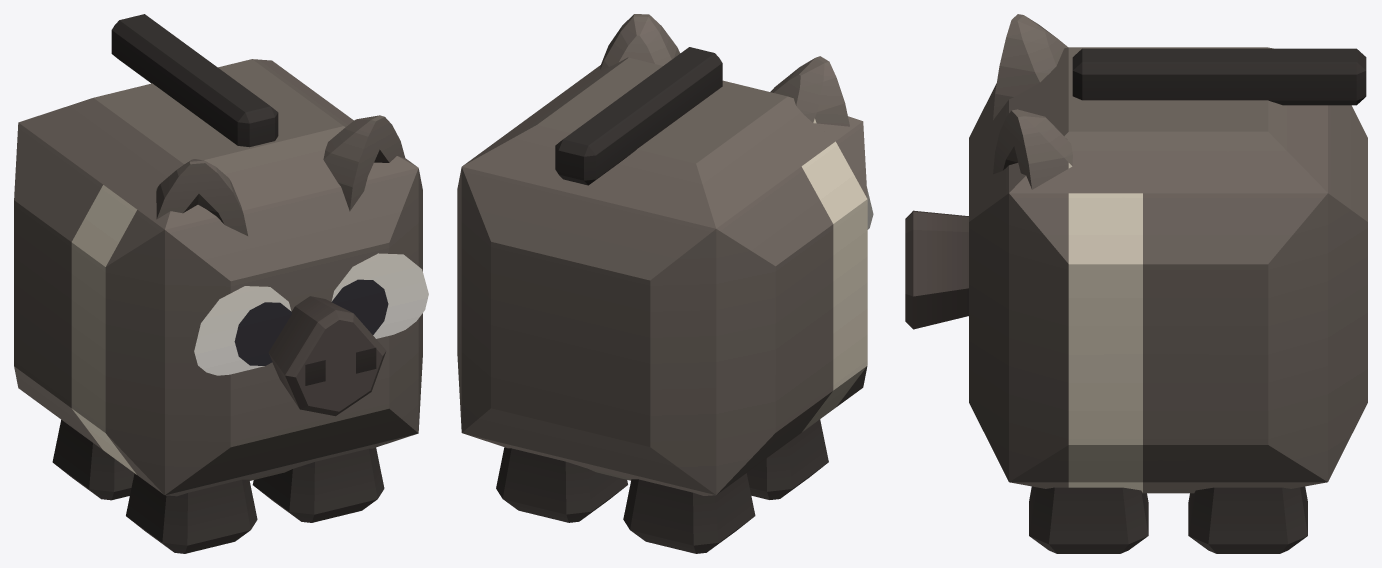
Rendered from cateto.glb.
3 renders of one model, left to right at view 1: azimuth 30°, elevation 25°; view 2: azimuth 150°, elevation 25°; view 3: azimuth 270°, elevation 25°, orthographic. The views are drawn at different scales.
Visible parts, largest first — view 1: head, body, leg-front-right, leg-front-left, leg-back-right; view 2: body, head, leg-back-right, leg-back-left, leg-front-right; view 3: body, head, leg-front-left, leg-back-left.
Part boxes in pixels (x1,y1,x2,y2): head: (105, 115, 428, 496); body: (14, 14, 353, 474); leg-front-right: (126, 473, 257, 553); leg-front-left: (252, 447, 384, 522); leg-back-right: (52, 420, 134, 500); body: (457, 47, 867, 495); head: (582, 14, 873, 406); leg-back-right: (623, 473, 755, 553); leg-back-left: (496, 447, 627, 522); leg-front-right: (746, 419, 828, 499); body: (1068, 47, 1367, 493); head: (905, 14, 1068, 488); leg-front-left: (1029, 486, 1148, 553); leg-back-left: (1188, 486, 1307, 553).
Size of the model in its own units: 1.25 by 1.55 by 1.46.
Materials: 1 (1 with a texture image).
